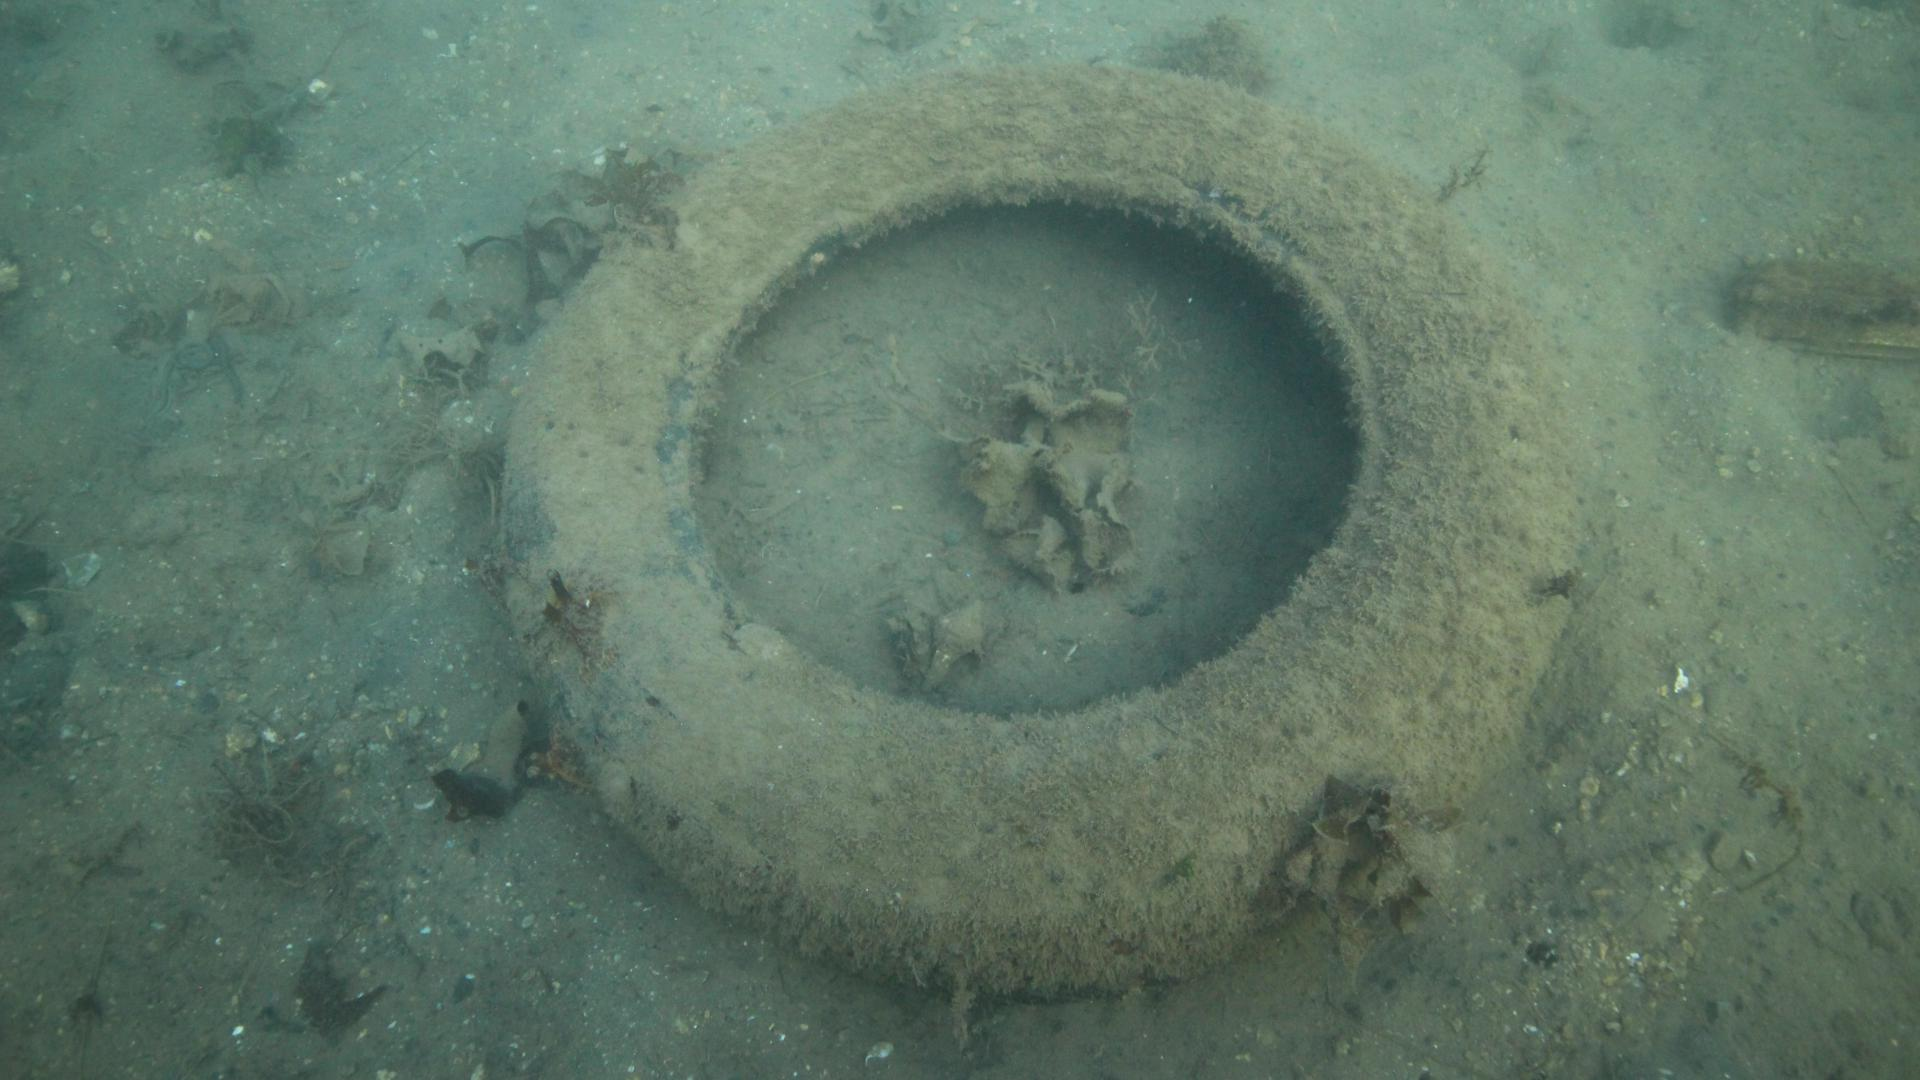tire: (495, 59, 1581, 1006)
